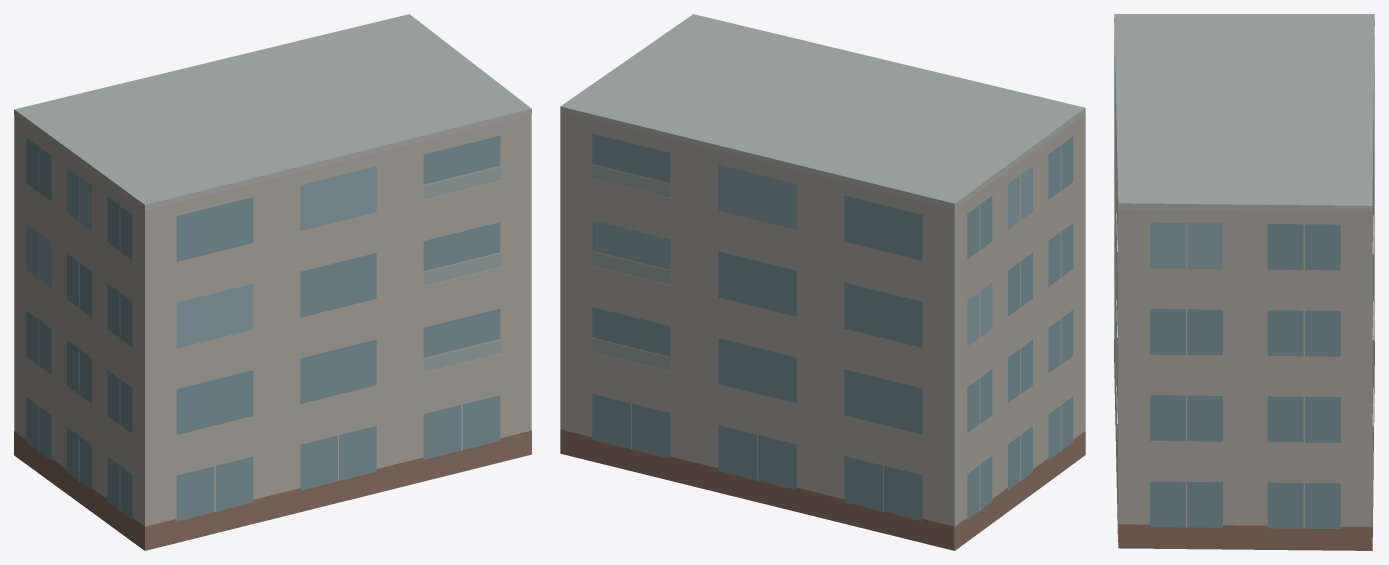
The model's file is survey-upis-32726233.glb.
3 views of the same model, side by side, from view 1: azimuth 30°, elevation 25°; view 2: azimuth 150°, elevation 25°; view 3: azimuth 270°, elevation 25° (orthographic).
Visible parts, largest first — view 1: survey-upis-32726233.tmp; view 2: survey-upis-32726233.tmp; view 3: survey-upis-32726233.tmp.
Boxes of the visible parts, left/top/right/bottom form: survey-upis-32726233.tmp: left=14, top=14, right=531, bottom=550; survey-upis-32726233.tmp: left=560, top=14, right=1085, bottom=550; survey-upis-32726233.tmp: left=1114, top=14, right=1374, bottom=550.
Size of the model in its own units: 16.94 by 14.2 by 9.73.
